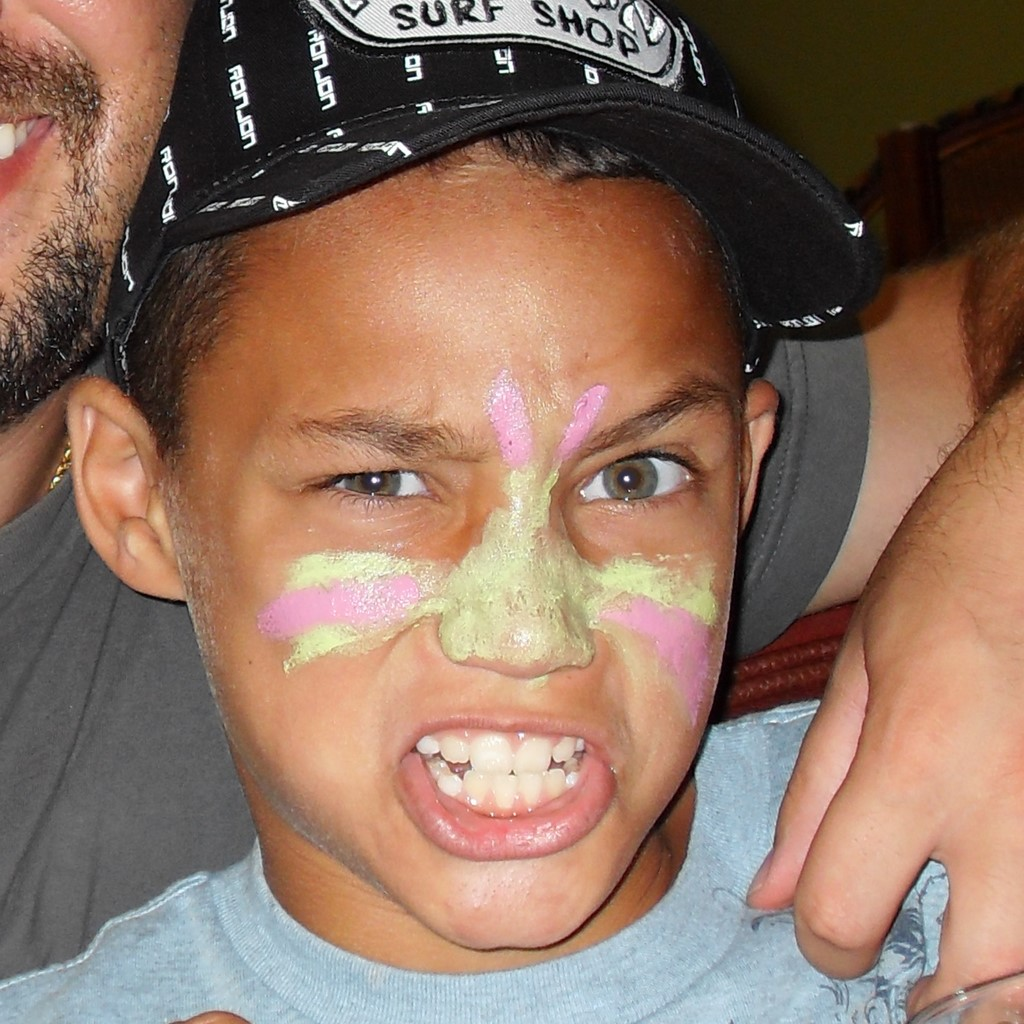sin_mascara: (90, 129, 785, 942)
